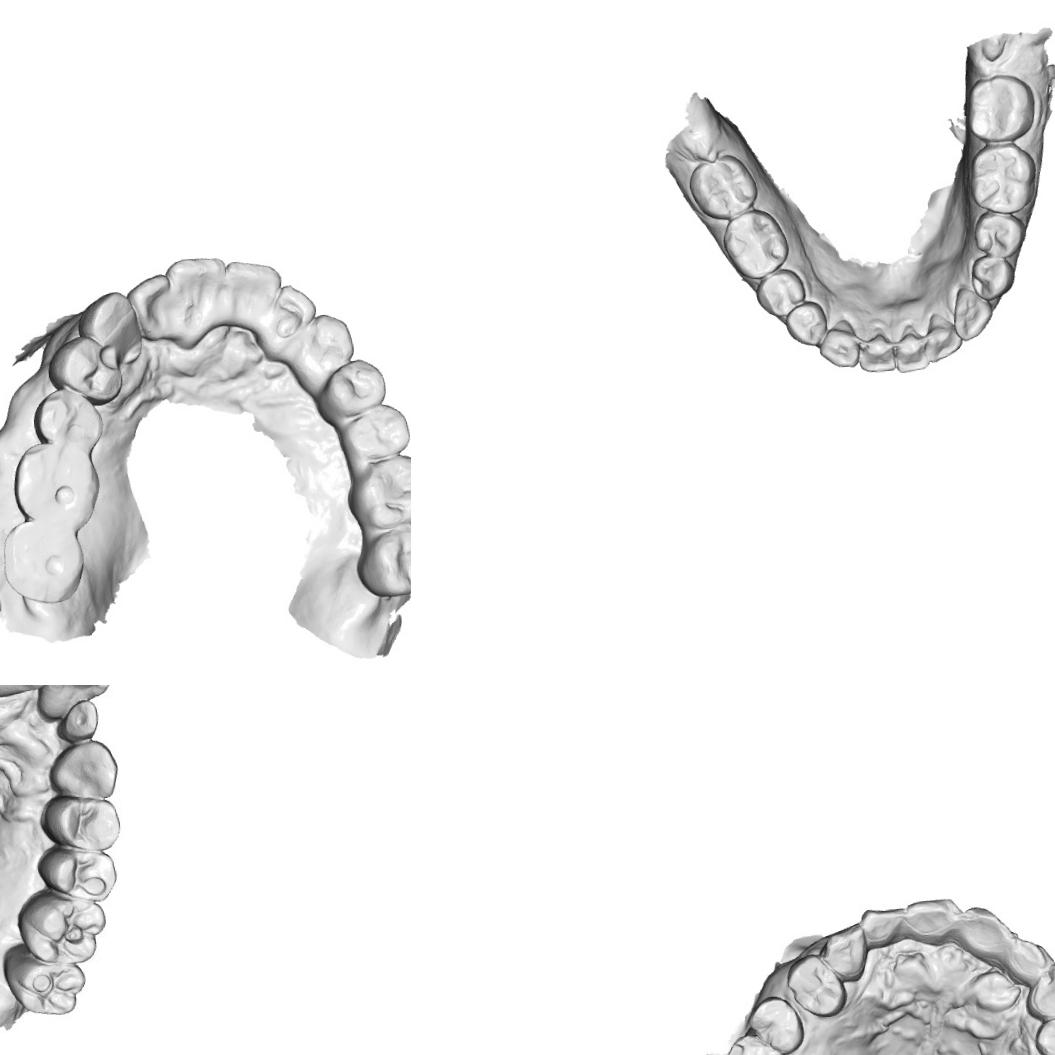canine: (71, 289, 142, 366), (44, 739, 123, 801), (290, 310, 356, 384), (818, 925, 875, 982), (948, 282, 995, 342), (815, 316, 863, 370), (1025, 961, 1055, 1019)
incisor: (222, 254, 286, 339), (164, 252, 230, 334), (263, 280, 318, 346), (127, 272, 175, 344), (900, 895, 961, 948), (35, 685, 114, 723), (958, 902, 1008, 958), (56, 698, 110, 742), (856, 901, 905, 948), (1001, 934, 1048, 982), (920, 312, 963, 364), (891, 325, 931, 374), (855, 330, 898, 374), (0, 685, 52, 706)
molar: (0, 516, 90, 609), (11, 441, 102, 528), (14, 884, 109, 964), (1, 939, 86, 1022), (965, 140, 1040, 217), (718, 204, 792, 282), (961, 70, 1038, 143), (684, 150, 761, 222), (341, 451, 411, 530), (354, 523, 411, 599), (712, 1032, 798, 1055)
premolar: (44, 334, 121, 408), (29, 841, 118, 904), (38, 790, 120, 854), (30, 386, 104, 454), (342, 399, 411, 462), (786, 952, 848, 1022), (320, 355, 388, 418), (748, 994, 807, 1054), (752, 264, 808, 321), (969, 206, 1029, 259), (781, 298, 830, 350), (968, 251, 1016, 303), (1031, 1010, 1055, 1055)
